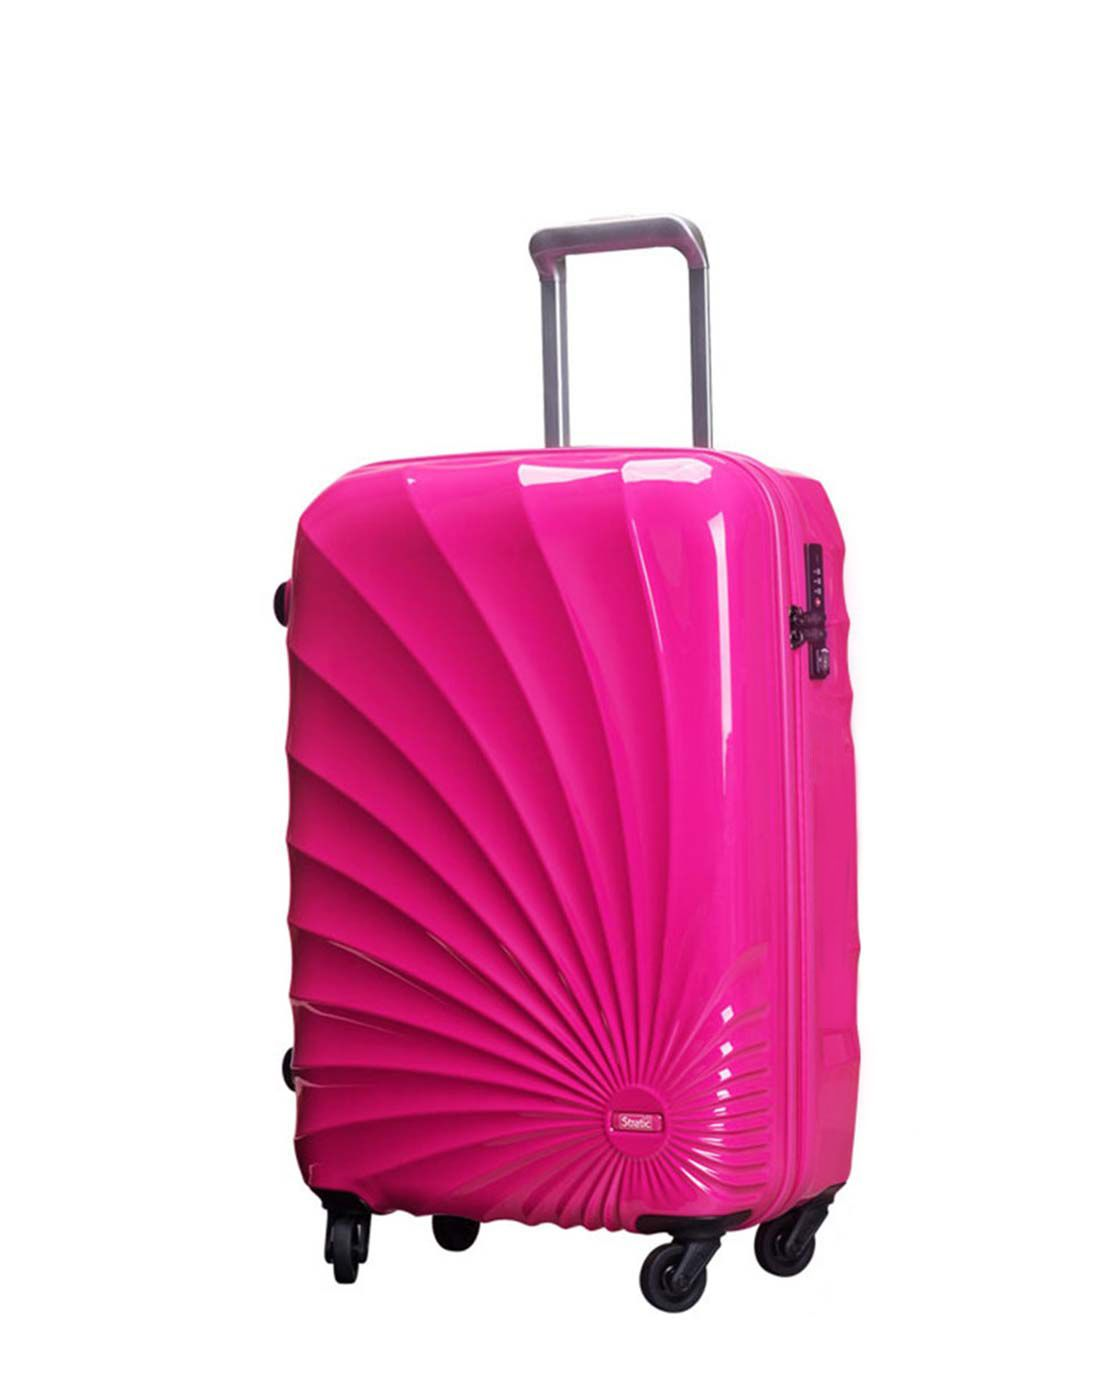luggage: (272, 217, 864, 1316)
